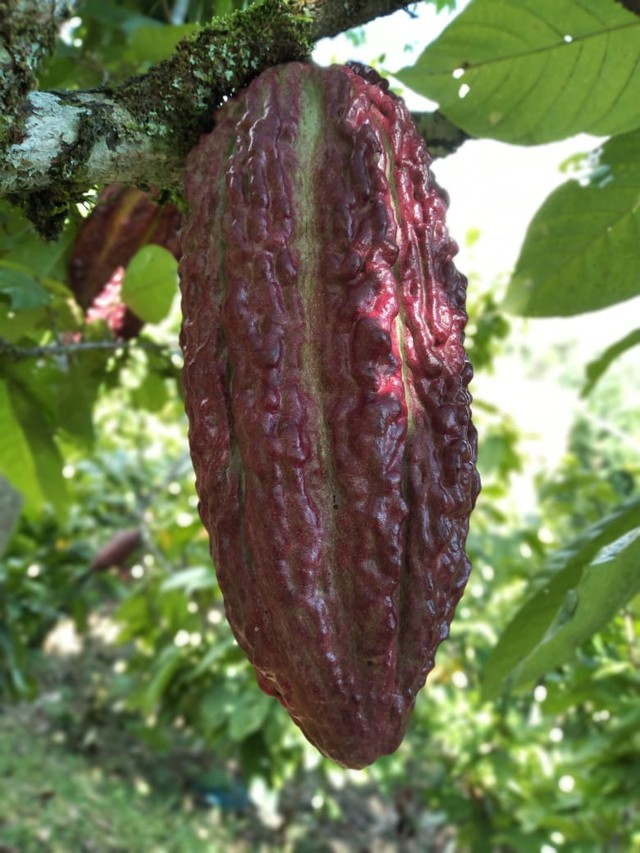Health: (151, 44, 497, 779)
